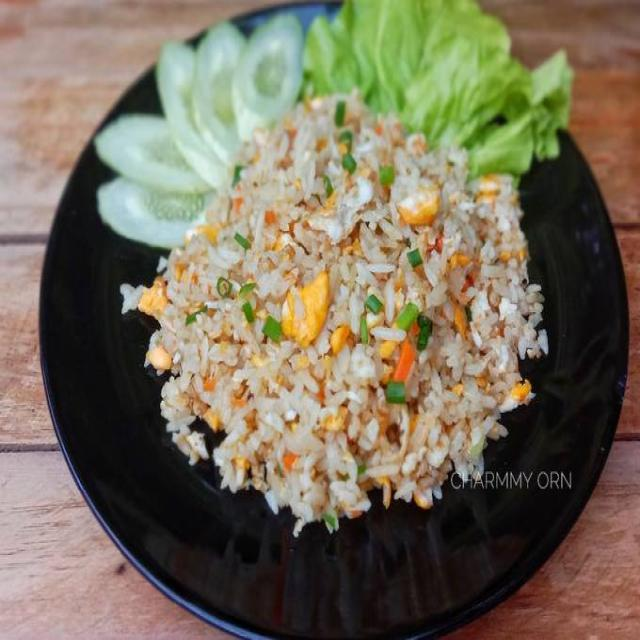carb: (237, 172, 492, 436)
fried rice: (157, 142, 515, 474)
meat: (324, 170, 376, 242)
vegetable: (394, 307, 431, 398), (338, 110, 361, 170)
